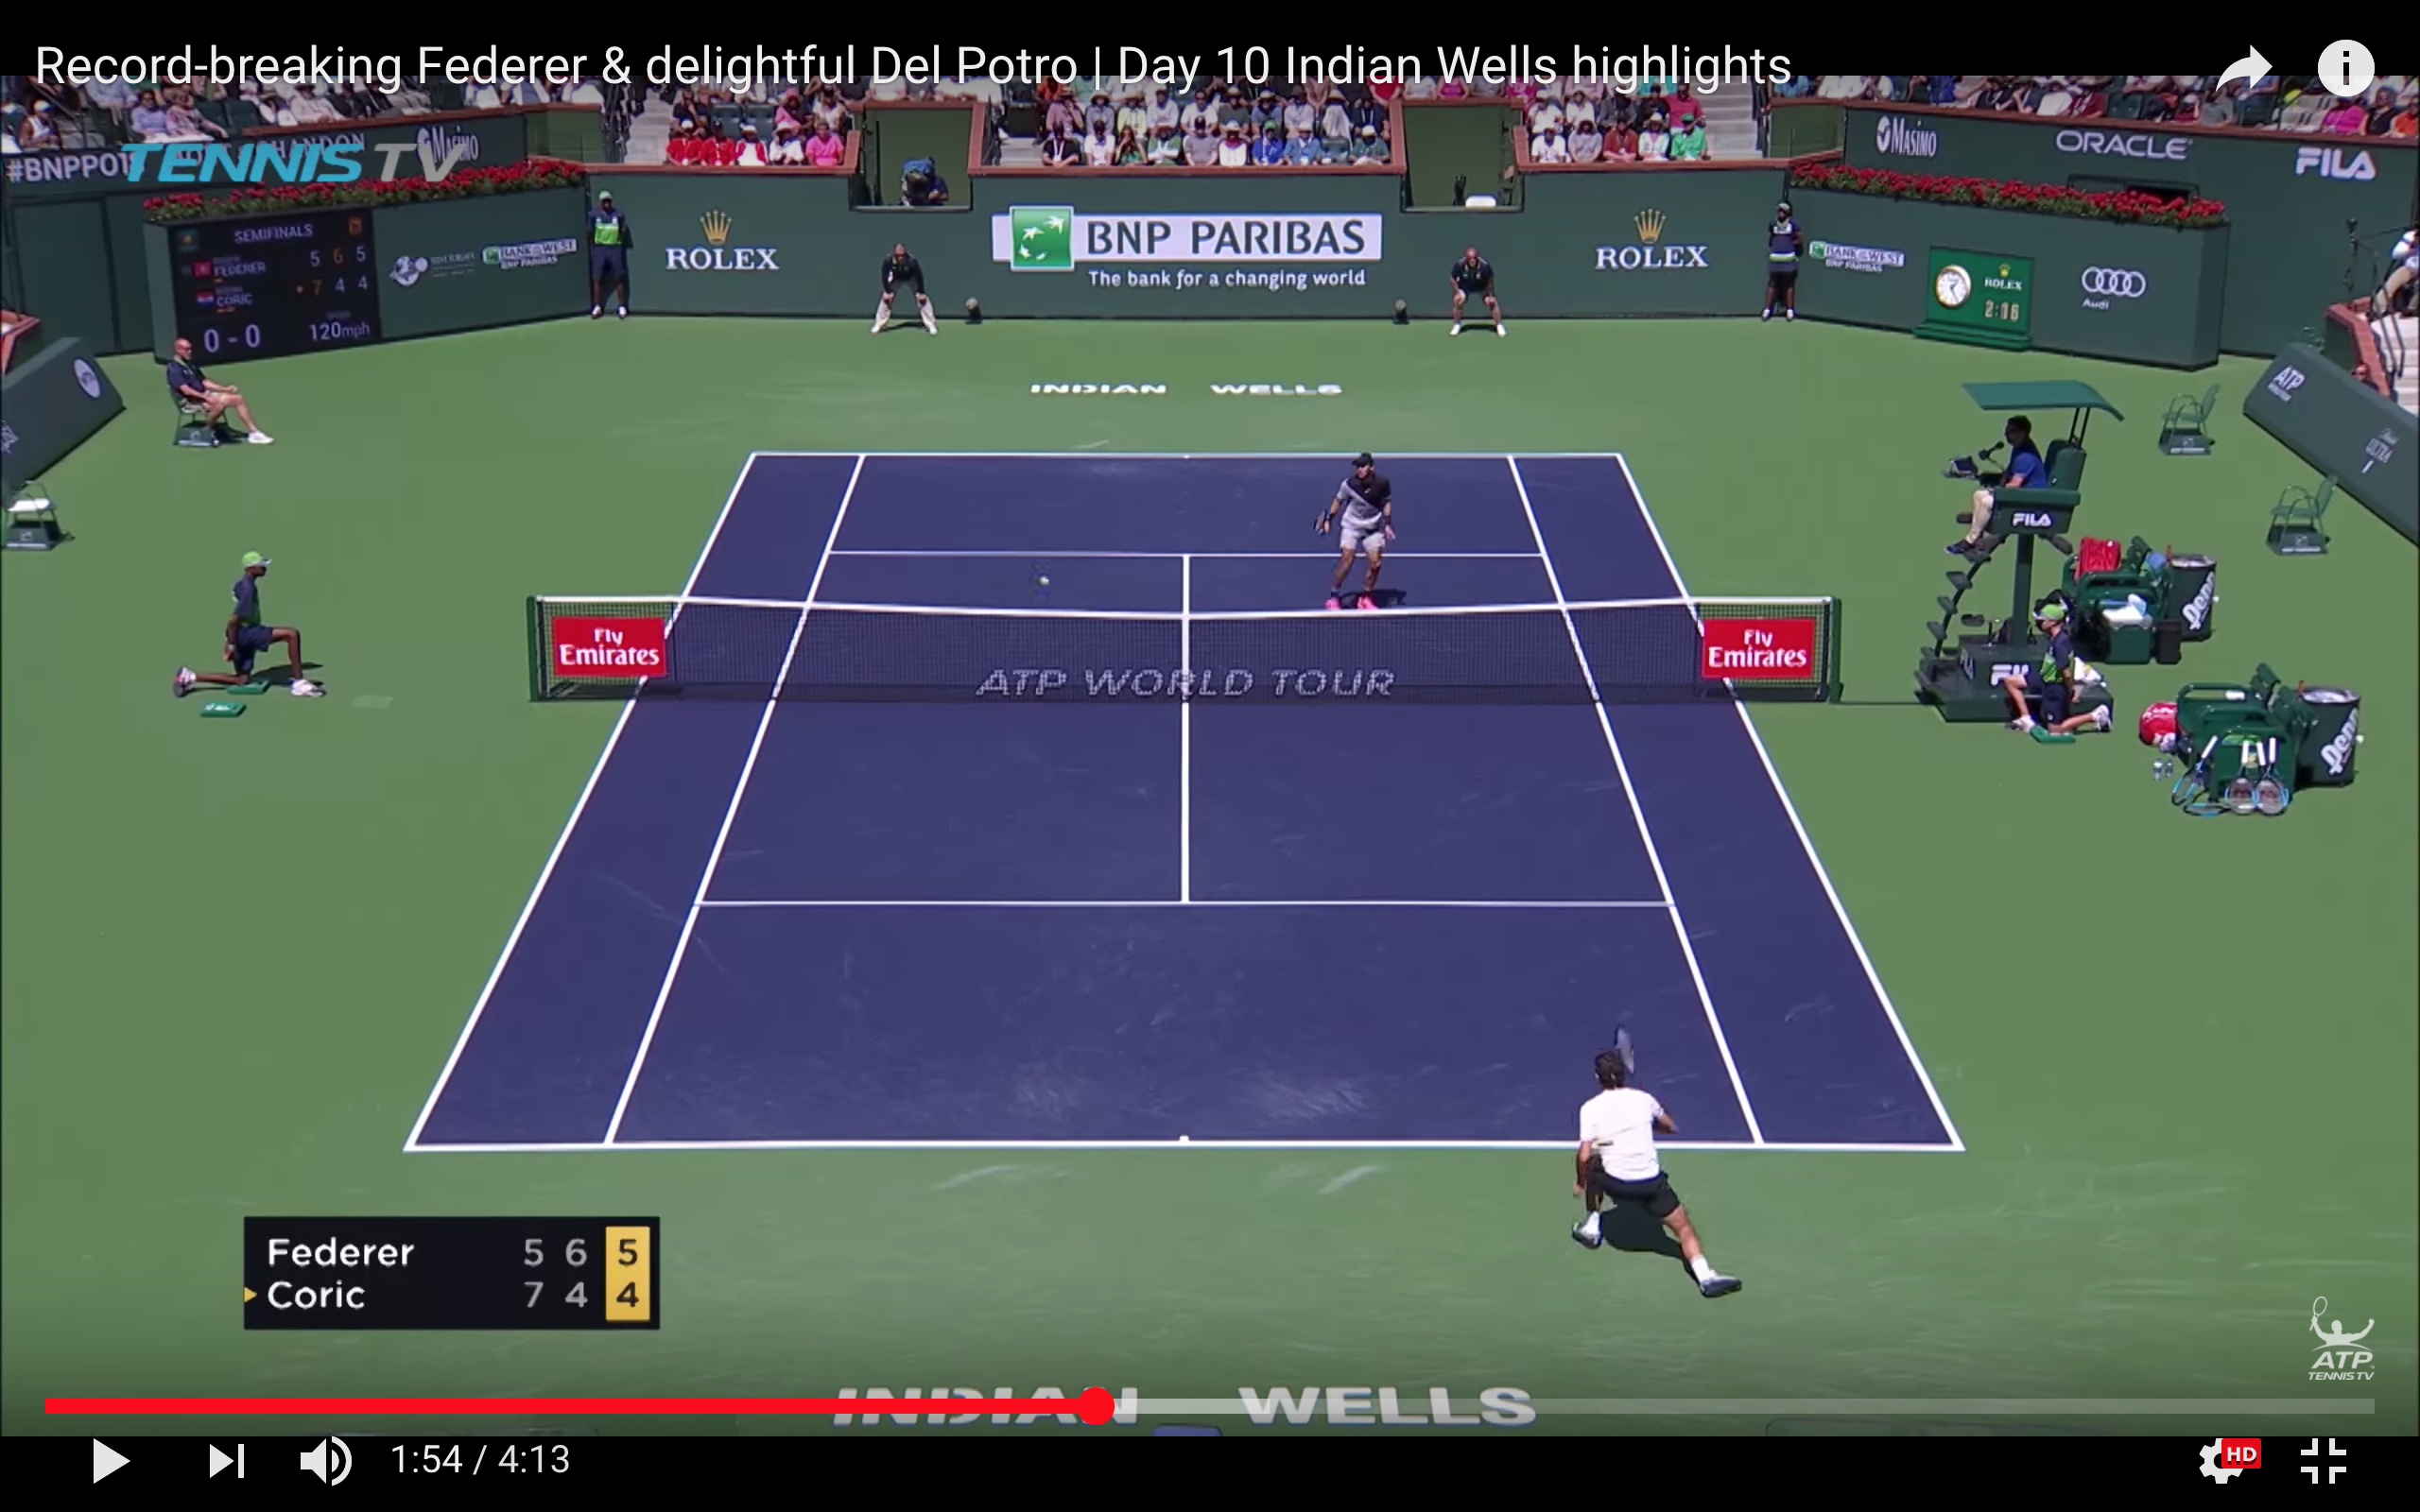tennis ball: (1033, 574, 1057, 592)
tennis player: (1543, 1021, 1762, 1302), (1296, 451, 1422, 608)
